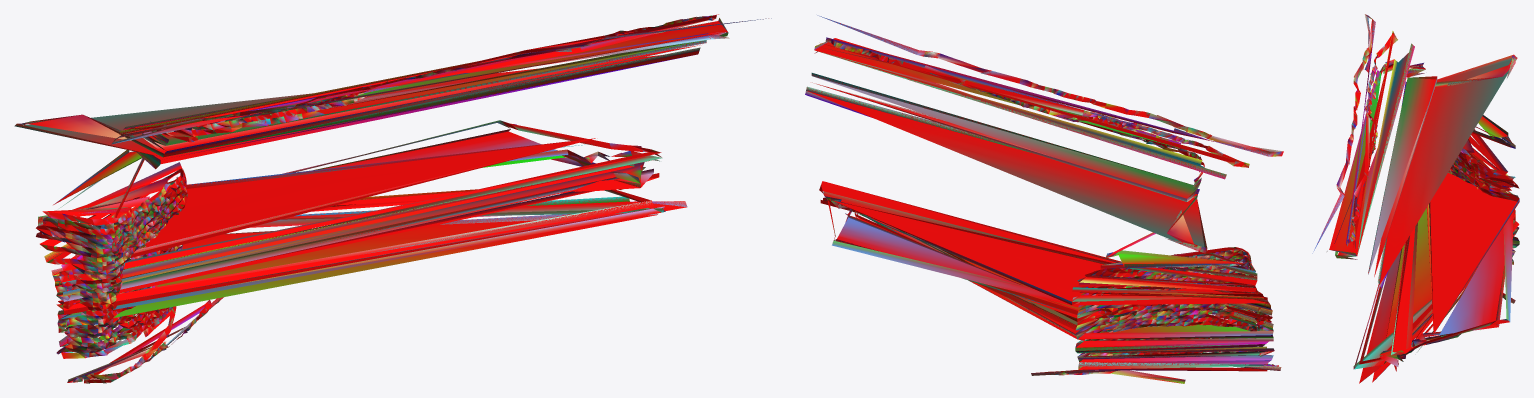
Rendered from colored.obj.
3 views of the same model, side by side, from view 1: azimuth 30°, elevation 25°; view 2: azimuth 150°, elevation 25°; view 3: azimuth 270°, elevation 25° (orthographic). The views are drawn at different scales.
Bounding box in the file's own units: 155 × 62 × 55.5.
1 material, 1 textured.
